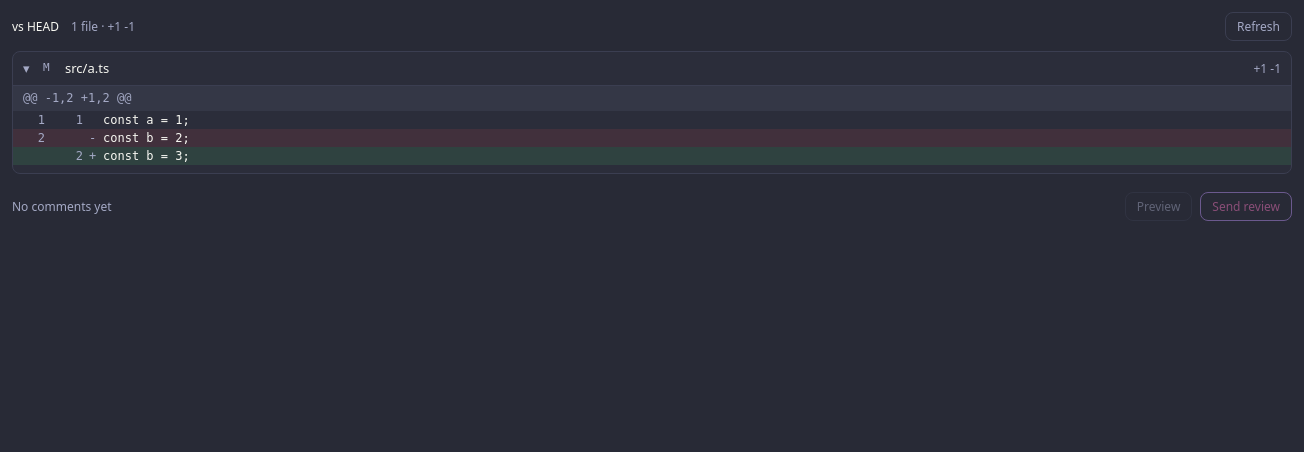
ReviewPanel Send review › sends a task review as a follow-up, clears the comments and links the task
Expected: the text "vs HEAD" is shown, [12, 18, 59, 35]
Step 1. Click the button with aria-label "Comment on line 2" → click(146, 156), box [13, 147, 1291, 165]
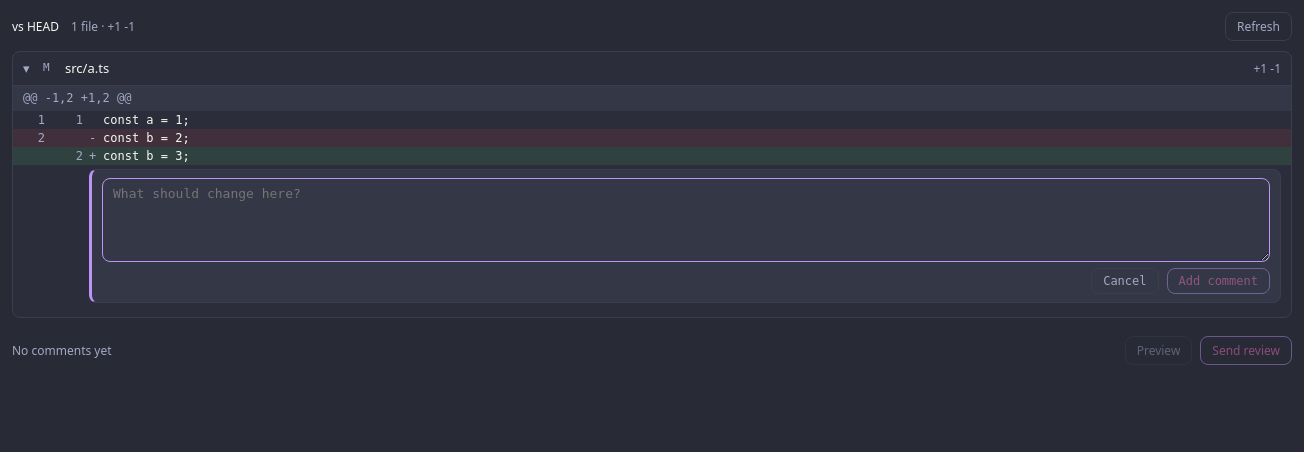
Step 2. Type "fix it" into the text box named "Comment" → (686, 220), box [102, 178, 1270, 262]
Step 3. Click the button "Add comment" → click(1218, 281), box [1166, 268, 1270, 294]
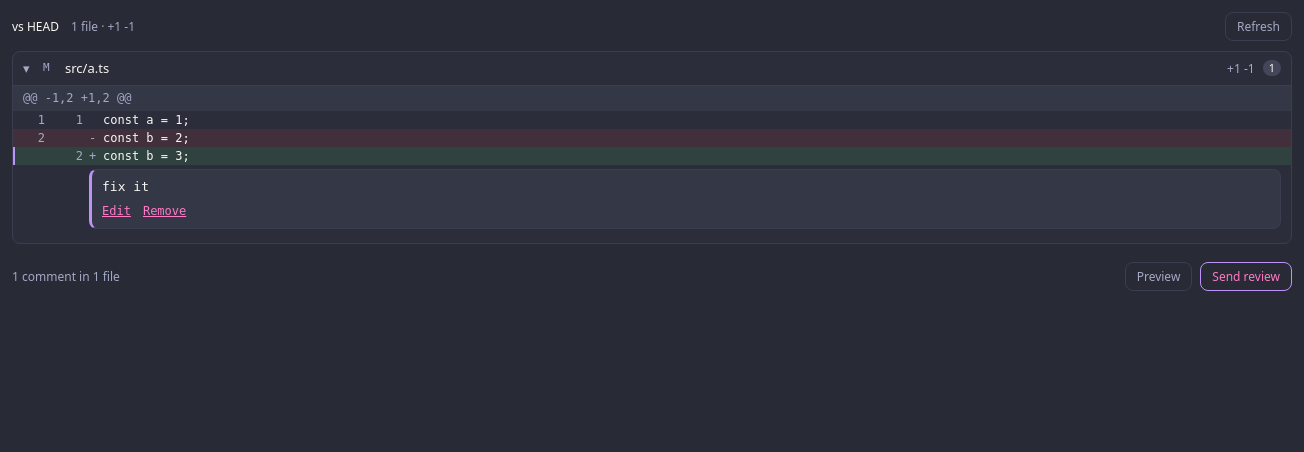
Step 4. Click the button with aria-label "Comment on removed line 2" → click(146, 138), box [13, 129, 1291, 147]
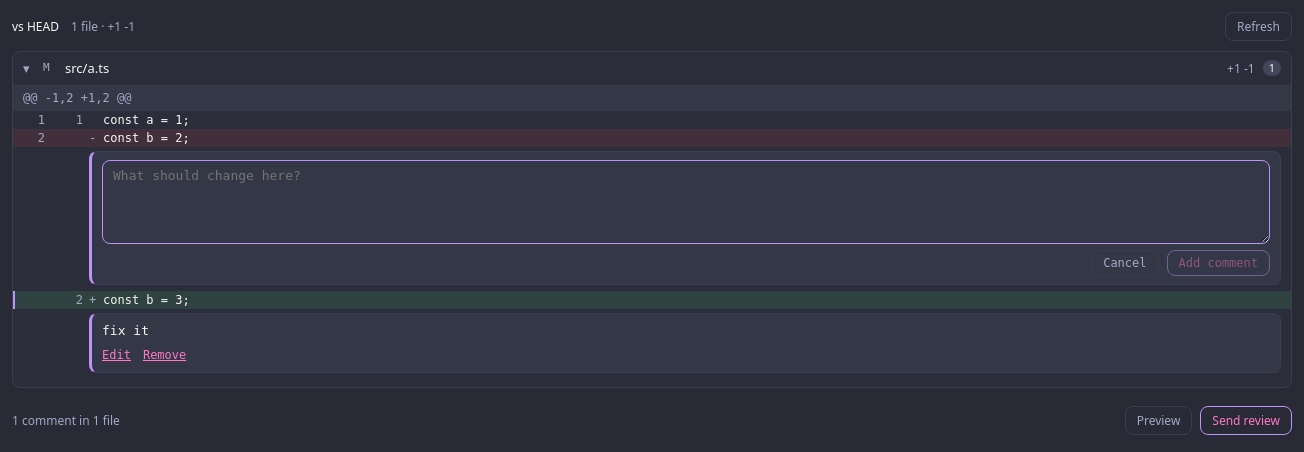
Step 5. Type "why removed" into the text box named "Comment" → (686, 202), box [102, 160, 1270, 244]
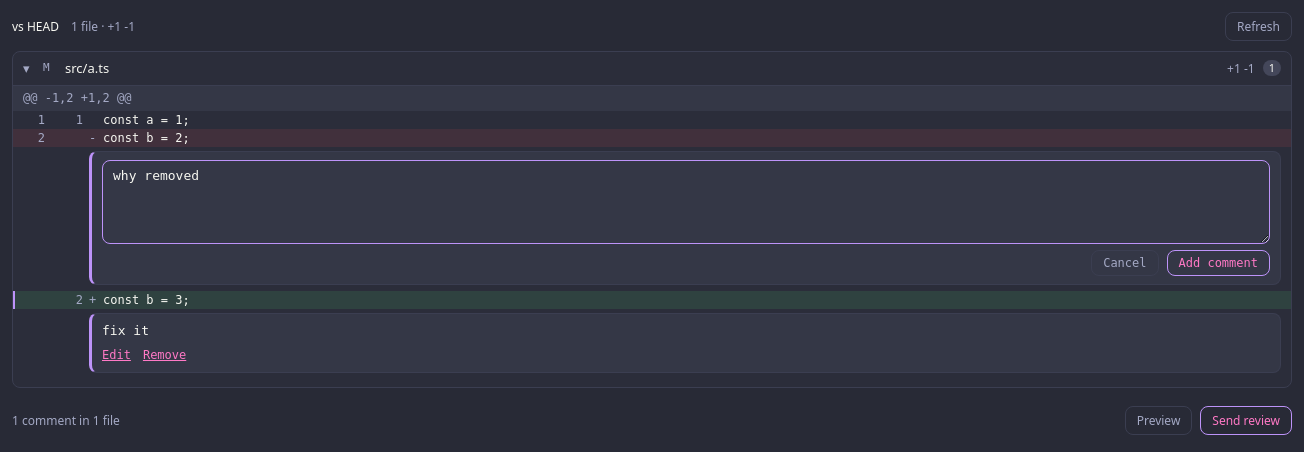
Step 6. Click the button "Add comment" → click(1218, 263), box [1166, 250, 1270, 276]
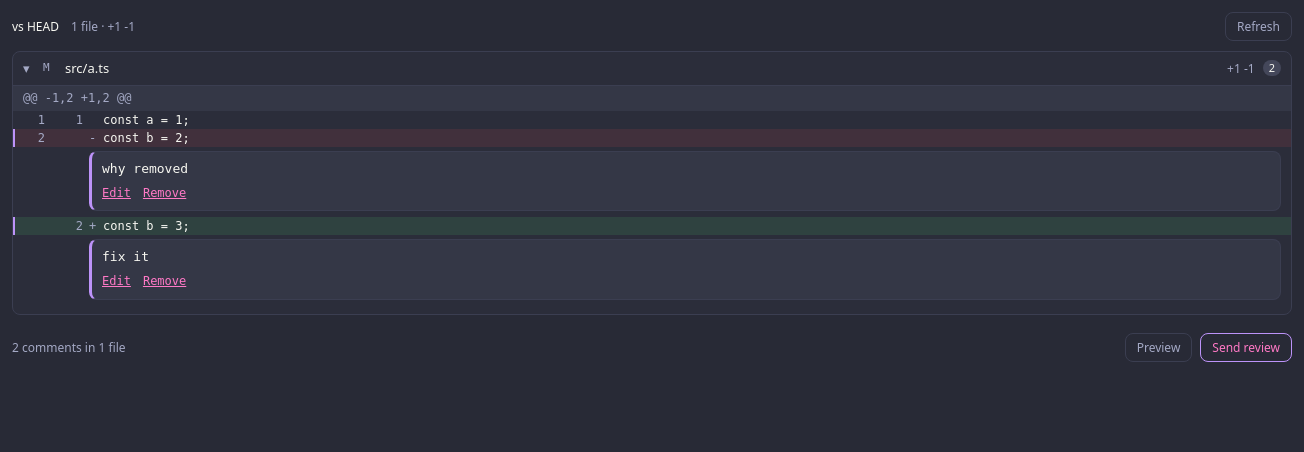
Now the text "2 comments in 1 file" is shown, box [12, 338, 126, 356]
Step 7. Click the button "Send review" → click(1246, 347), box [1200, 333, 1292, 362]
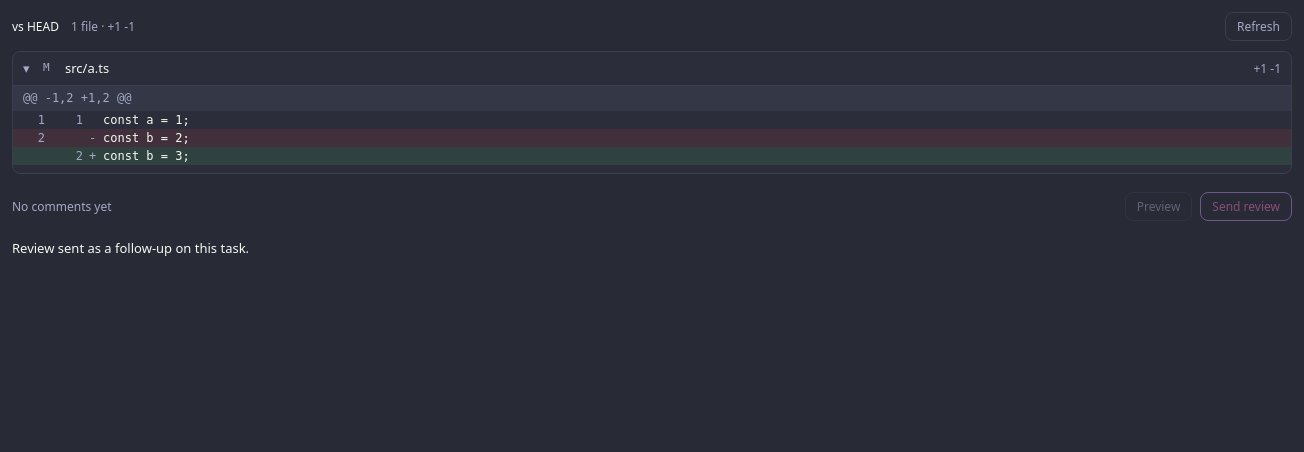
Now the message reads "Review sent as a follow-up on this task.", box [12, 239, 249, 257]
Now the text "No comments yet" is shown, box [12, 198, 112, 215]
